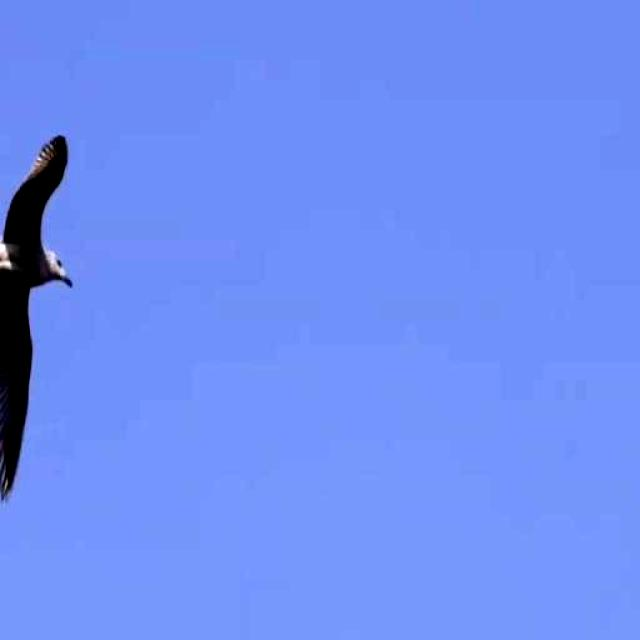airplane: (0, 122, 76, 521)
